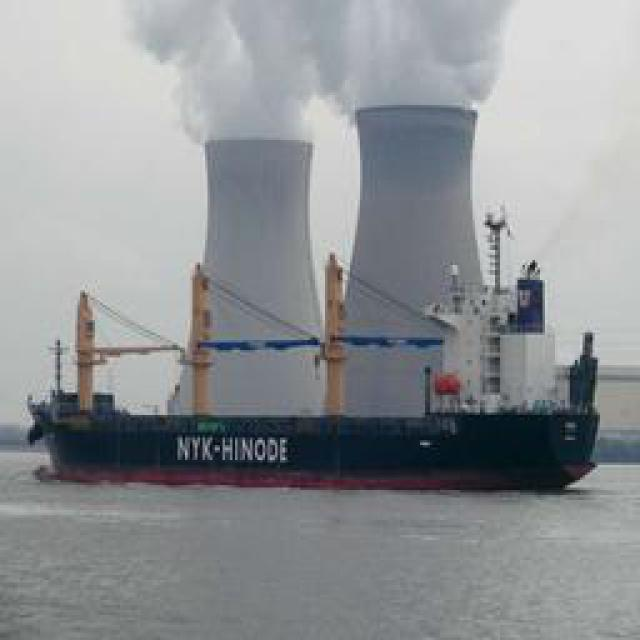Ship: (26, 172, 606, 490)
